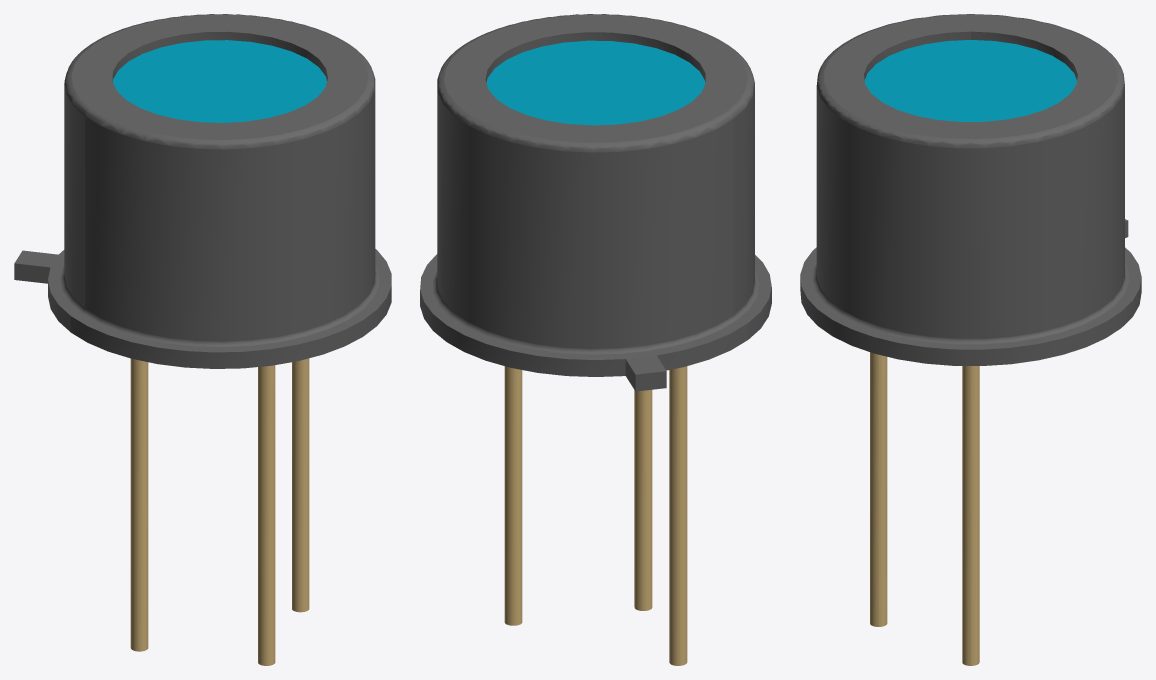
File: kc-to-5-3_window.glb
The picture shows the model from 3 angles, left to right: view 1: azimuth 30°, elevation 25°; view 2: azimuth 150°, elevation 25°; view 3: azimuth 270°, elevation 25°; orthographic projection. The views are drawn at different scales.
Parts seen in each view (by area): view 1: 0.16666666666666666_0.16666666666666666_0.16666666666666666_, 0.75_0.5_0.25_0.9, 0_0.3333333333333333_0.5_0; view 2: 0.16666666666666666_0.16666666666666666_0.16666666666666666_, 0.75_0.5_0.25_0.9, 0_0.3333333333333333_0.5_0; view 3: 0.16666666666666666_0.16666666666666666_0.16666666666666666_, 0_0.3333333333333333_0.5_0, 0.75_0.5_0.25_0.9.
Part boxes in pixels (<box>): 0.16666666666666666_0.16666666666666666_0.16666666666666666_: <box>14,14,391,368</box>; 0.75_0.5_0.25_0.9: <box>130,358,309,665</box>; 0_0.3333333333333333_0.5_0: <box>113,40,326,122</box>; 0.16666666666666666_0.16666666666666666_0.16666666666666666_: <box>420,14,771,391</box>; 0.75_0.5_0.25_0.9: <box>504,366,687,665</box>; 0_0.3333333333333333_0.5_0: <box>486,40,705,125</box>; 0.16666666666666666_0.16666666666666666_0.16666666666666666_: <box>800,14,1141,365</box>; 0_0.3333333333333333_0.5_0: <box>864,40,1076,121</box>; 0.75_0.5_0.25_0.9: <box>870,352,979,665</box>.
Bounding box in the file's own units: 0.9389 × 1.66 × 0.9393.
